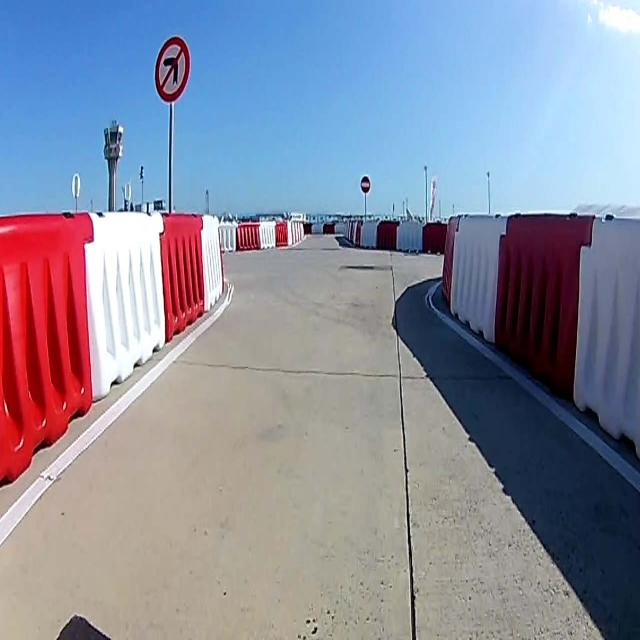girisyok: (360, 175, 370, 194)
soladonulmez: (153, 36, 191, 104)
